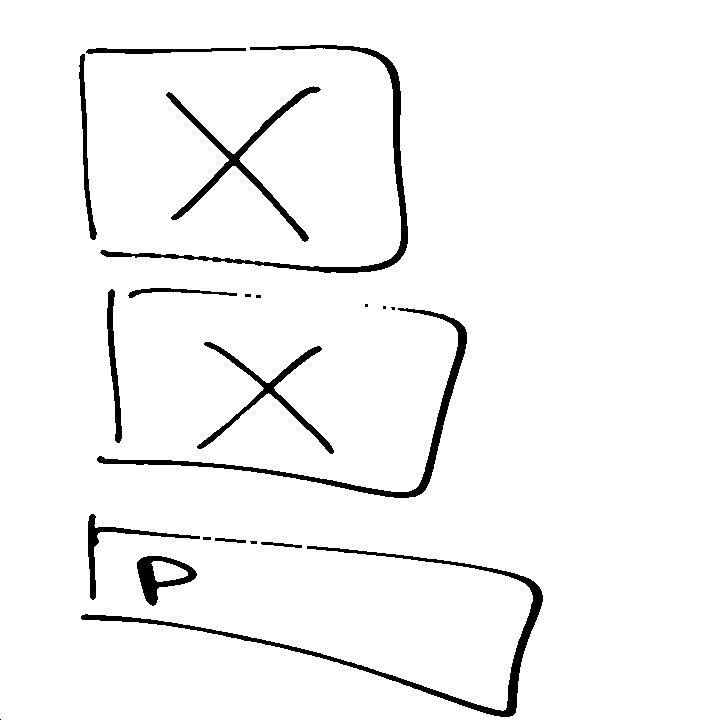paragraph: (69, 521, 576, 719)
picture: (63, 40, 423, 276), (97, 280, 466, 502)
